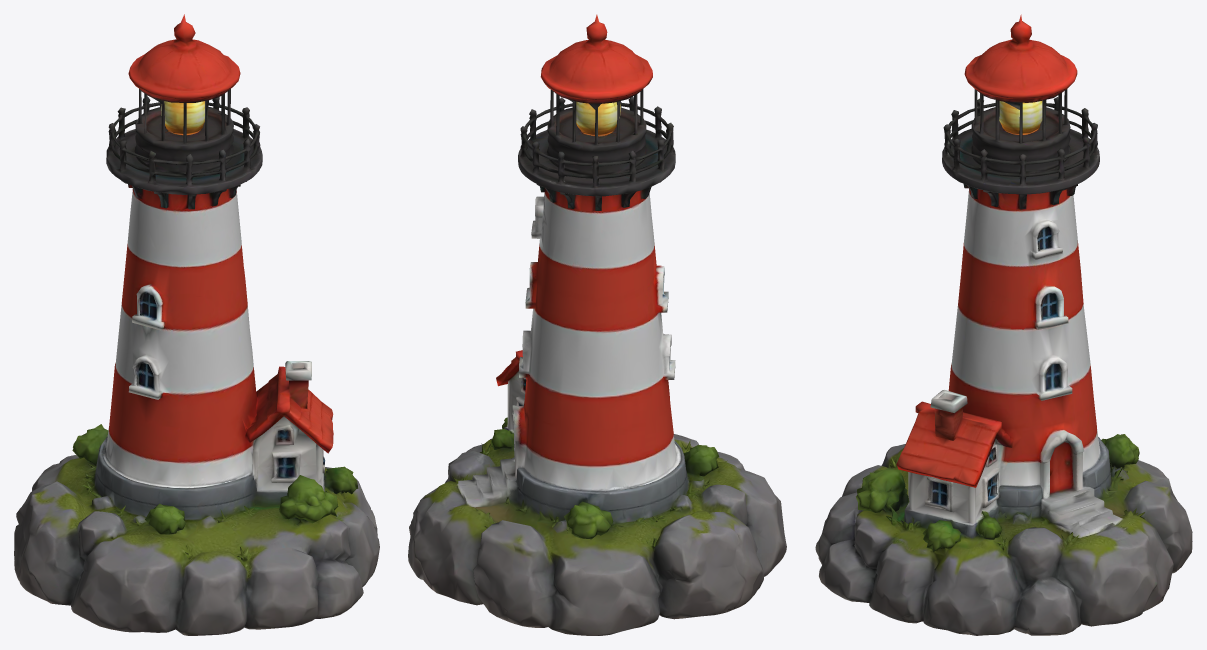
The model's file is lighthouse.glb.
3 views of the same model, side by side, from view 1: azimuth 30°, elevation 25°; view 2: azimuth 150°, elevation 25°; view 3: azimuth 270°, elevation 25° (orthographic).
Parts seen in each view (by area): view 1: tripo_node_2dcbfbf0-8cdb-4297-bb5d-c83edca775af; view 2: tripo_node_2dcbfbf0-8cdb-4297-bb5d-c83edca775af; view 3: tripo_node_2dcbfbf0-8cdb-4297-bb5d-c83edca775af.
Boxes of the visible parts, bbox=[...] form: tripo_node_2dcbfbf0-8cdb-4297-bb5d-c83edca775af: bbox=[14, 14, 379, 635]; tripo_node_2dcbfbf0-8cdb-4297-bb5d-c83edca775af: bbox=[408, 14, 786, 635]; tripo_node_2dcbfbf0-8cdb-4297-bb5d-c83edca775af: bbox=[815, 14, 1192, 635].
Size of the model in its own units: 0.6217 by 1 by 0.6279.
1 material, 1 textured.
